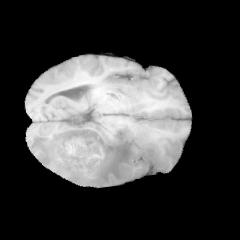glioma: (30, 126, 135, 186)
